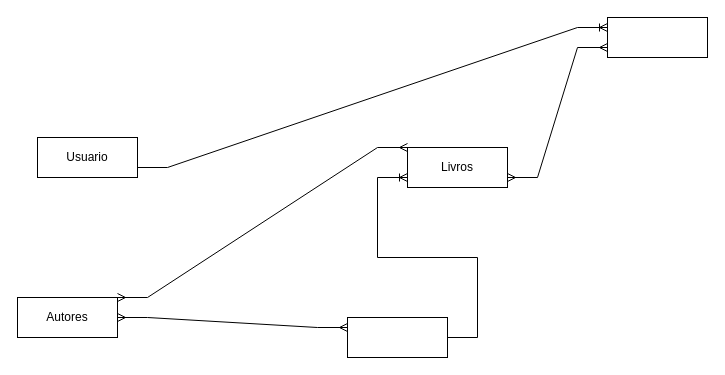
This 725x375 diagram has some shape labels left out. The centre of each missing label's shape, as x and y in pixels:
"Emprestimos" goes at point (657, 37).
"Genero" goes at point (397, 337).
